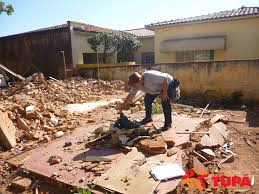rubble: (11, 74, 124, 134)
